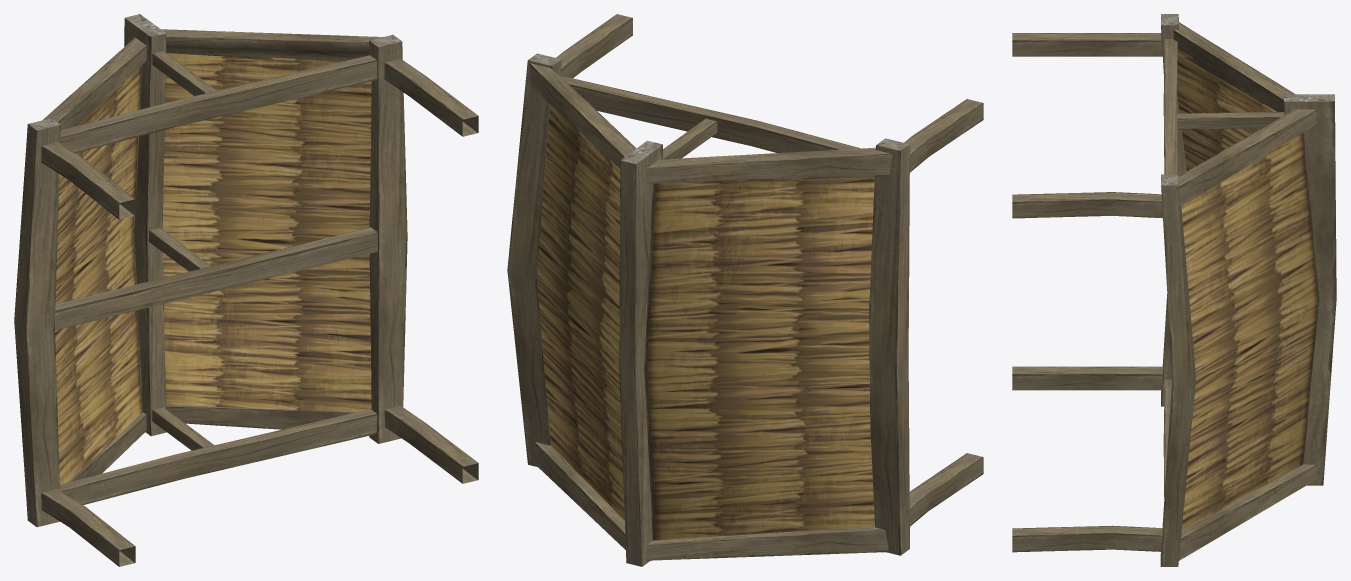
Rendered from Tent_A.fbx.
The picture shows the model from 3 angles, left to right: view 1: azimuth 30°, elevation 25°; view 2: azimuth 150°, elevation 25°; view 3: azimuth 270°, elevation 25°; orthographic projection. The views are drawn at different scales.
Visible parts, largest first — view 1: Tent_A; view 2: Tent_A; view 3: Tent_A.
Part boxes in pixels (x1=…): Tent_A: x1=14, y1=14, x2=478, y2=566; Tent_A: x1=507, y1=14, x2=983, y2=566; Tent_A: x1=1012, y1=14, x2=1336, y2=566.
Bounding box in the file's own units: 7.59 × 7.6 × 5.81.
